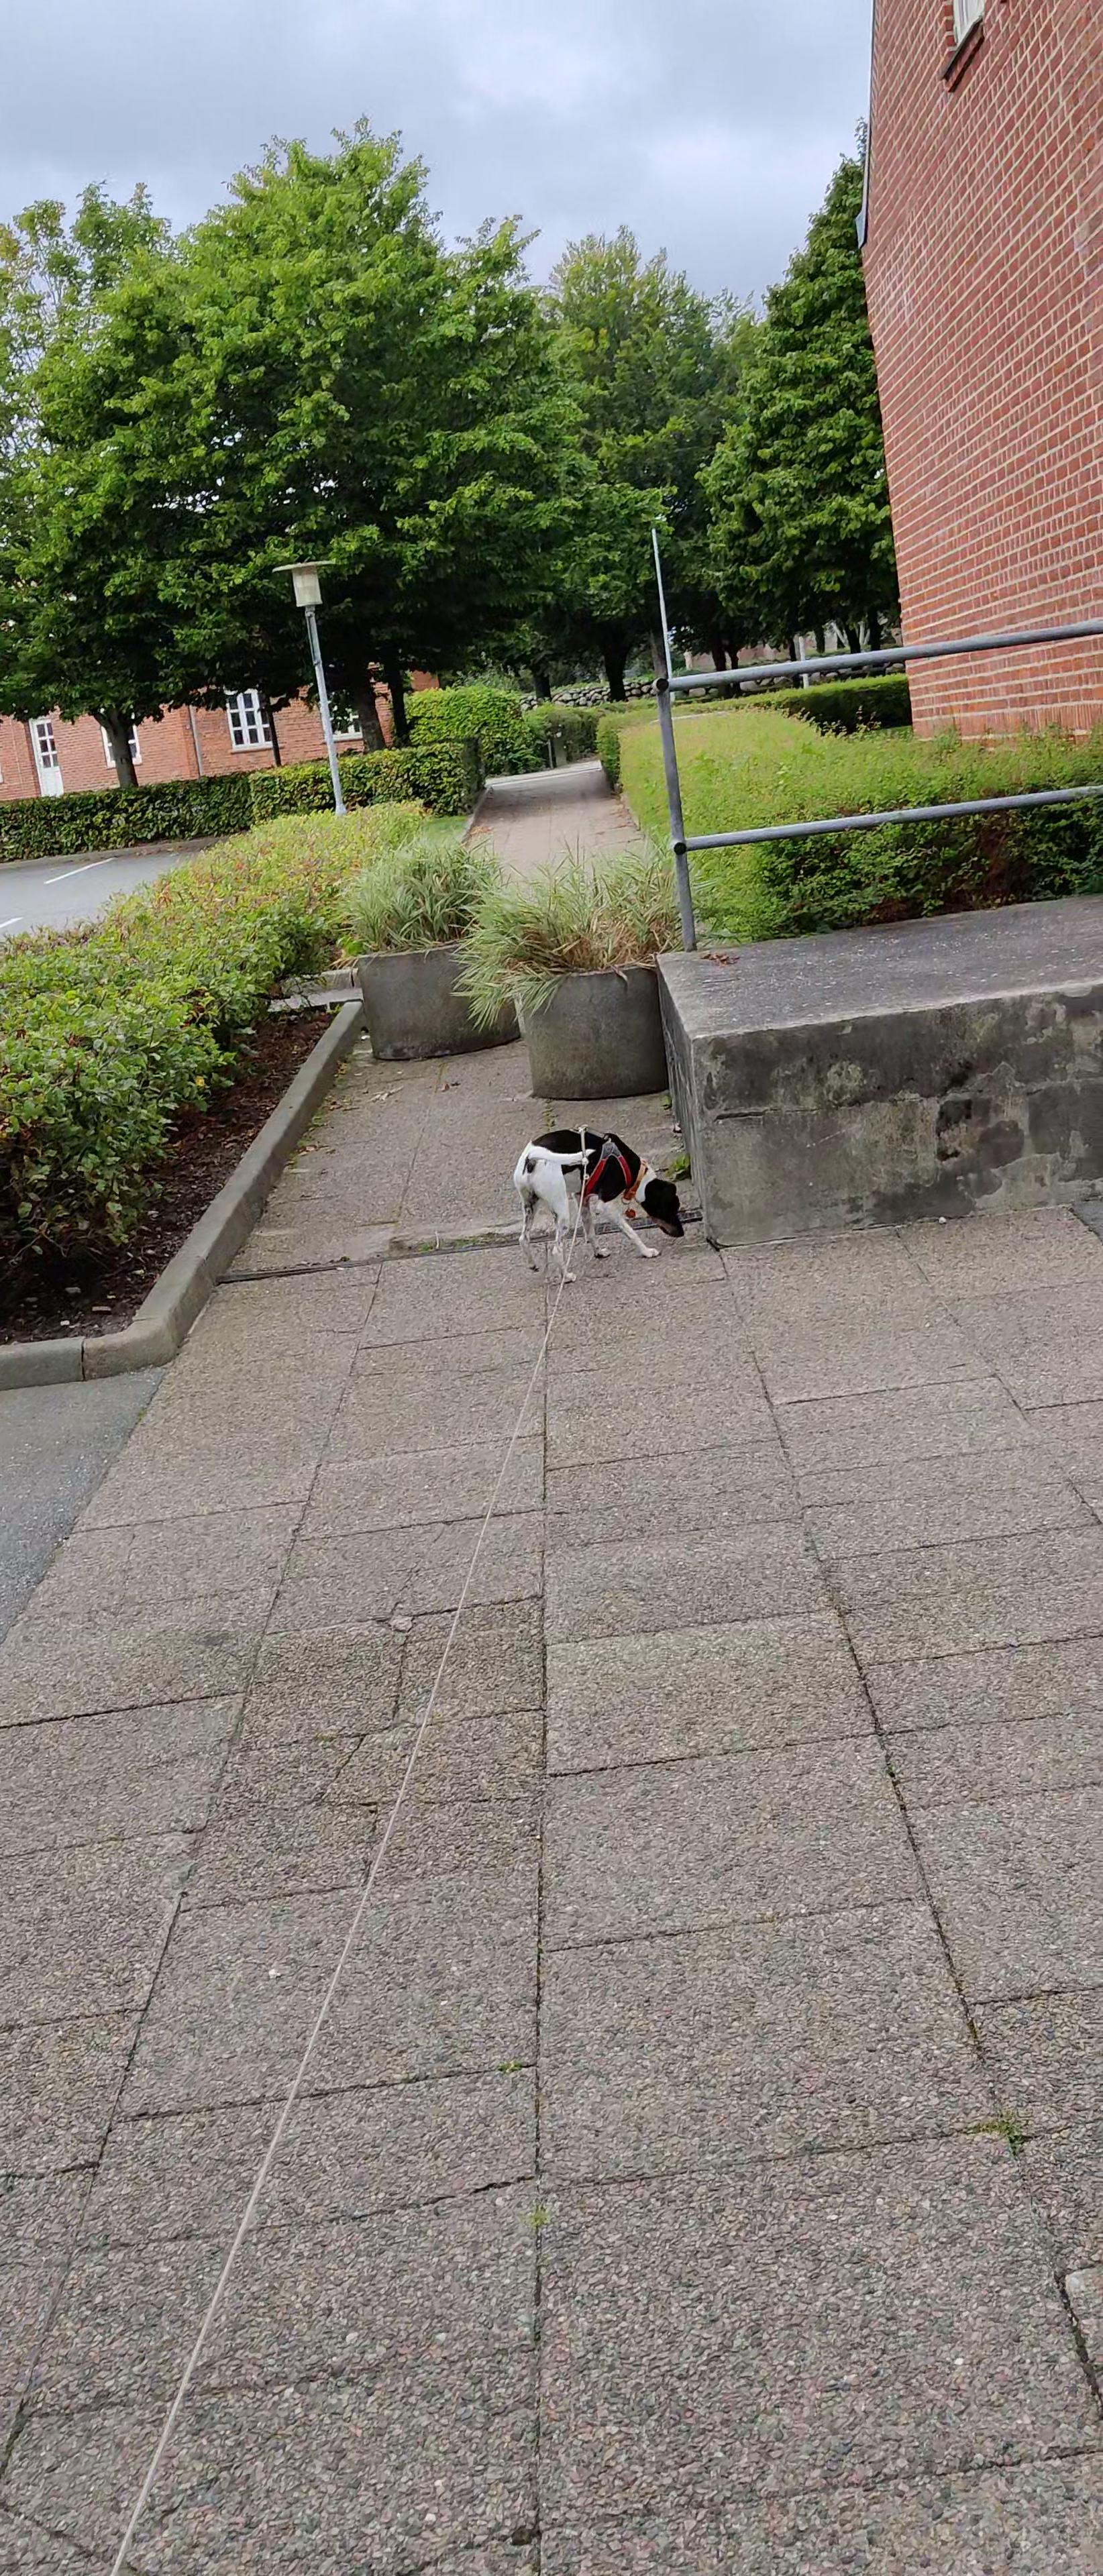Dog: (508, 1117, 692, 1301)
